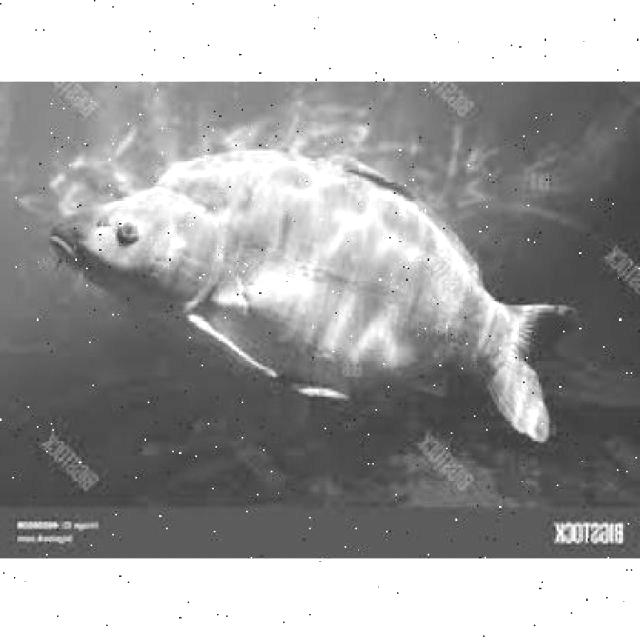ikan-mas: (50, 140, 559, 434)
